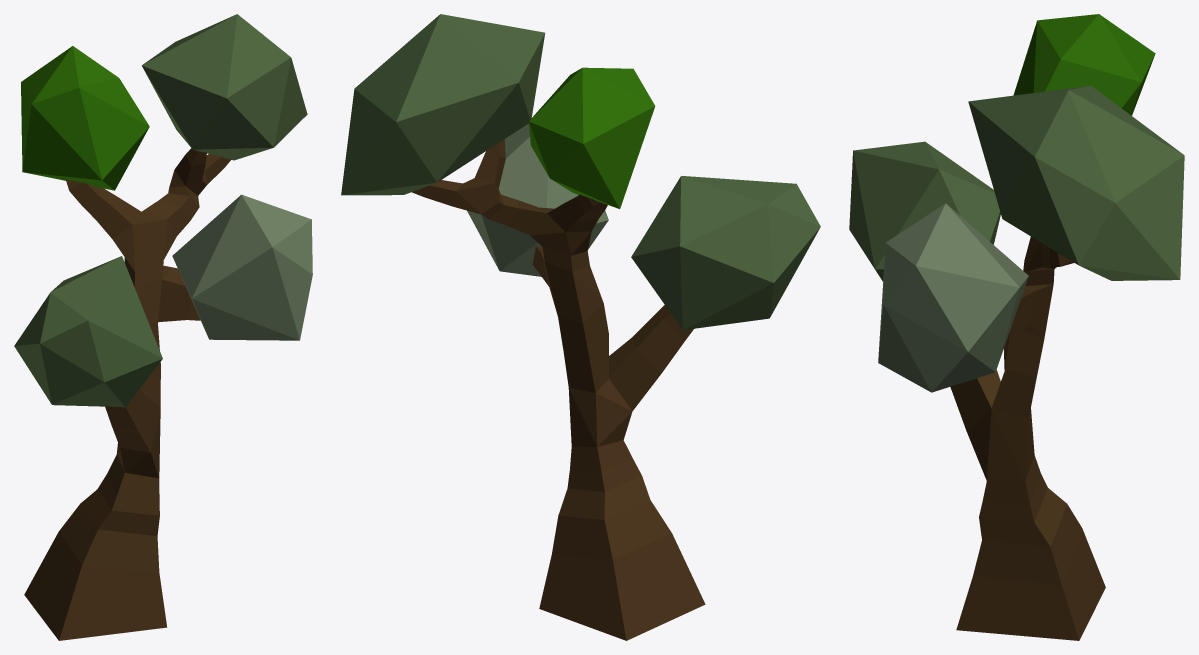
Rendered from Tree_Oak.fbx.
3 views of the same model, side by side, from view 1: azimuth 30°, elevation 25°; view 2: azimuth 150°, elevation 25°; view 3: azimuth 270°, elevation 25° (orthographic). The views are drawn at different scales.
Parts seen in each view (by area): view 1: Tree_Oak; view 2: Tree_Oak; view 3: Tree_Oak.
Boxes of the visible parts, <box> form: Tree_Oak: <box>14,14,312,640</box>; Tree_Oak: <box>341,14,820,640</box>; Tree_Oak: <box>849,14,1184,640</box>.
Bounding box in the file's own units: 9.25 × 13.53 × 6.79.
